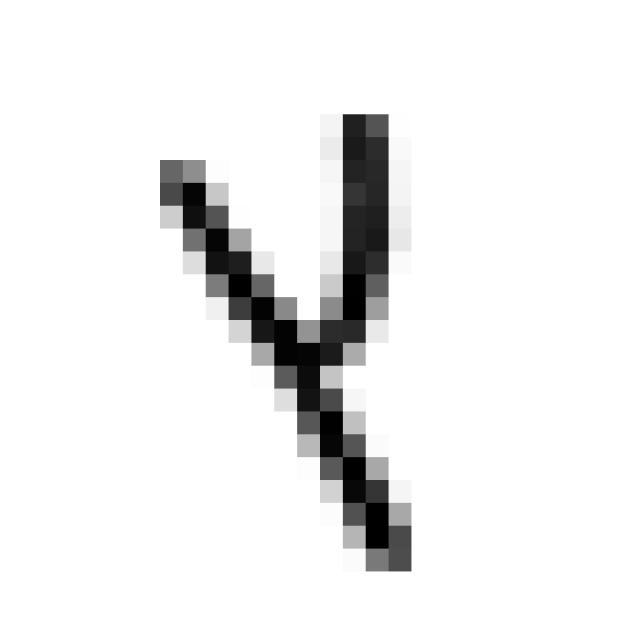3 -three-: (142, 89, 438, 596)
